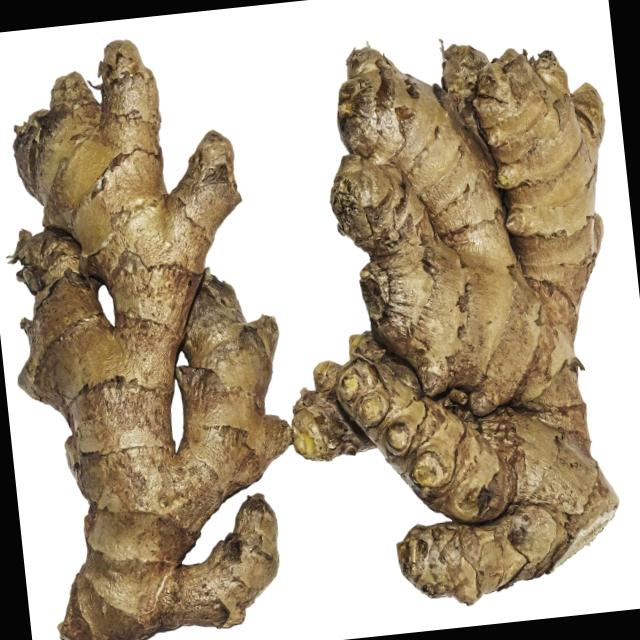ginger-root: (250, 0, 640, 640), (0, 13, 317, 640)
